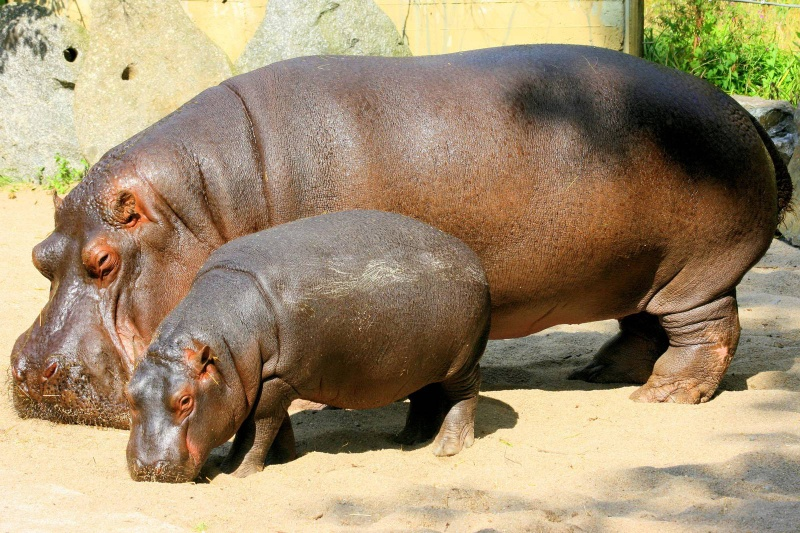hipopotamo: (2, 41, 790, 409), (128, 205, 492, 485)
